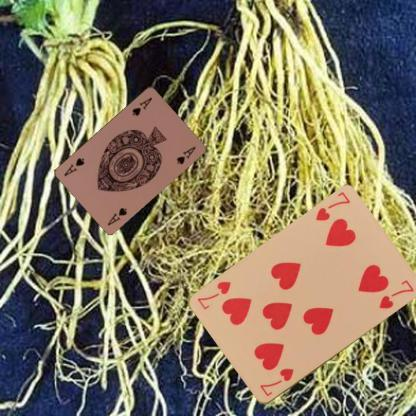7h: (313, 190, 351, 224), (257, 366, 295, 398)
As: (130, 94, 154, 116), (105, 204, 128, 226)
